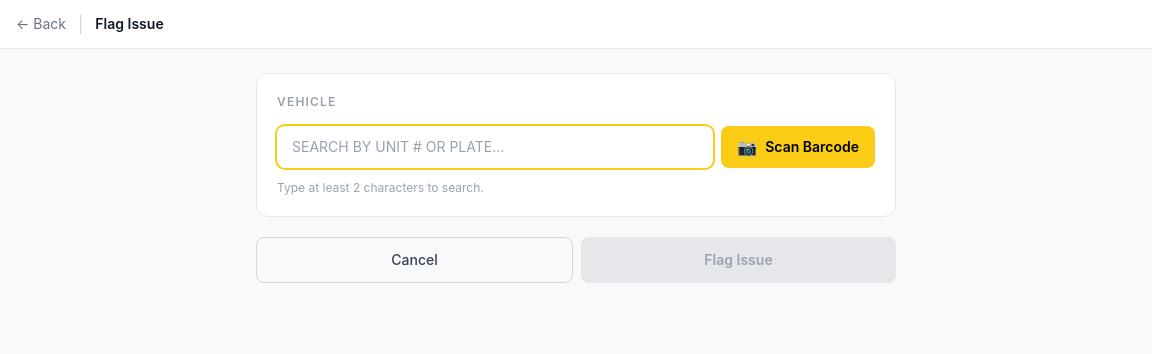
NewHoldForm — vehicle selection › shows "not in the system" and flag CTA for unmatched search ≥2 chars
This screenshot has width=1152, height=354.
Step 1. Type "ZZZZ" into the field with placeholder "Search by unit # or plate…" → (495, 147), box [277,126,713,168]
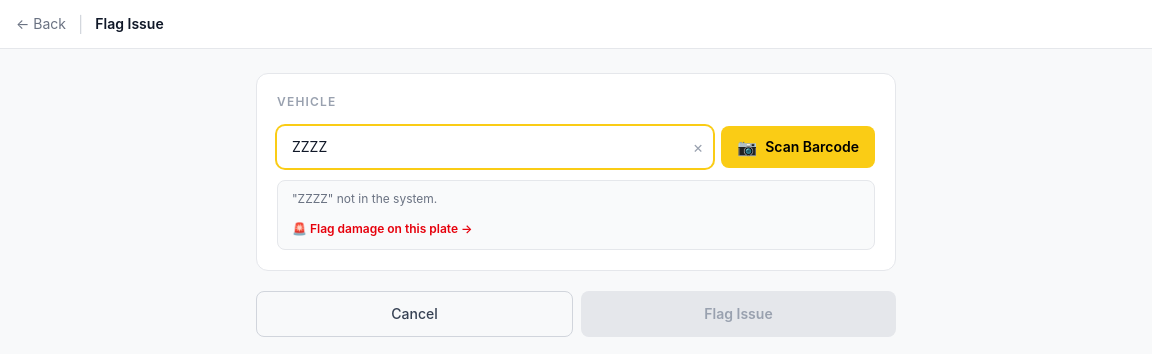
Result: the text "\"ZZZZ\" not in the system." is shown at [292,191,437,206]
Result: the button "🚨 Flag damage on this plate →" is shown at [292,221,473,237]
